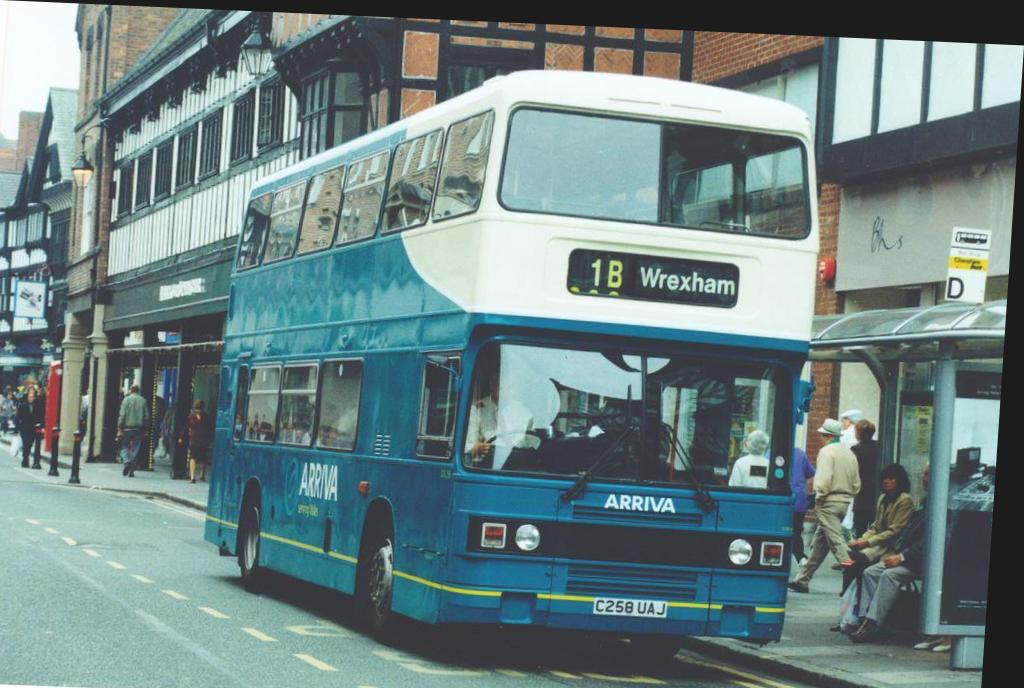License_Plate: (591, 598, 671, 620)
